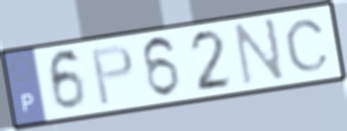2: (189, 28, 234, 93)
6: (45, 47, 91, 116), (140, 33, 186, 102)
C: (283, 17, 332, 74)
N: (233, 15, 287, 88)
P: (88, 42, 137, 109)
